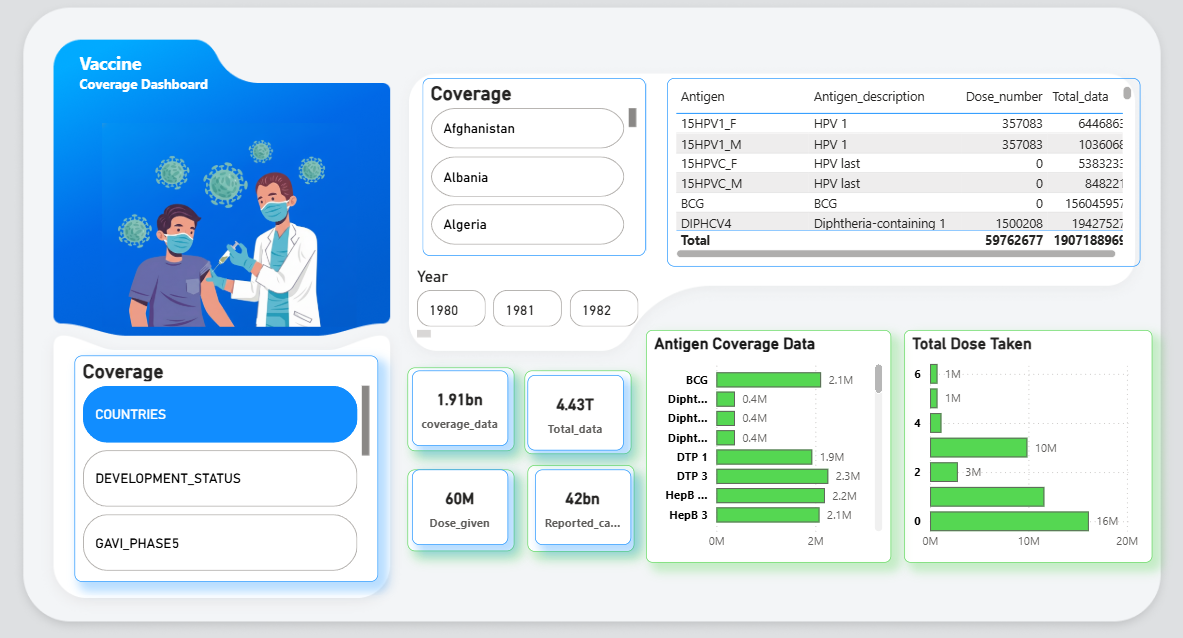

What the dashboard file says about the page in this screenshot:
{"tool":"powerbi","page":{"name":"Vaccine Coverage","canvas":[1280,720],"ordinal":1},"visuals":[{"type":"shape","box":[443.3,520,113.3,86.7],"z":0},{"type":"shape","box":[571.7,515,113.3,91.7],"z":1000},{"type":"shape","box":[443.3,411.7,113.3,88.3],"z":2000},{"type":"shape","box":[568.3,415,113.3,88.3],"z":3000},{"type":"image","box":[113.8,137.5,280,247.5],"z":4000},{"type":"advancedSlicerVisual","title":"Coverage","fields":{"Values":["vaccine_db vaccine_combined_info.coverage_group"]},"box":[90,400,322,240],"z":5000},{"type":"card","fields":{"Values":["Sum(vaccine_db vaccine_combined_info.coverage_coverage)"]},"box":[448.3,415,101.7,80],"z":6000},{"type":"card","fields":{"Values":["Sum(vaccine_db vaccine_combined_info.coverage_doses)"]},"box":[571.7,420,101.7,80],"z":7000},{"type":"textbox","box":[90.7,71.6,222.7,66.8],"z":8000},{"type":"advancedSlicerVisual","title":"Coverage","fields":{"Values":["vaccine_db vaccine_combined_info.coverage_name"]},"box":[460,105,236.7,188.3],"z":9000},{"type":"card","fields":{"Values":["Sum(vaccine_db vaccine_combined_info.coverage_dose_number)"]},"box":[448.3,520,101.7,80],"z":10000},{"type":"card","fields":{"Values":["Sum(vaccine_db vaccine_combined_info.reported_cases)"]},"box":[578.3,520,101.7,80],"z":11000},{"type":"clusteredBarChart","title":"Total Dose Taken","fields":{"Y":["CountNonNull(vaccine_db vaccine_combined_info.coverage_antigen)"],"Category":["vaccine_db vaccine_combined_info.coverage_dose_number"]},"box":[970,371.7,263.3,246.7],"z":12000},{"type":"tableEx","fields":{"Values":["vaccine_db vaccine_combined_info.coverage_antigen","vaccine_db vaccine_combined_info.coverage_antigen_description","Sum(vaccine_db vaccine_combined_info.coverage_dose_number)","Sum(vaccine_db vaccine_combined_info.coverage_coverage)"]},"box":[718.3,105,501.7,200],"z":13000},{"type":"advancedSlicerVisual","fields":{"Values":["vaccine_db vaccine_combined_info.coverage_year"]},"box":[448.3,305,245,81.7],"z":14000},{"type":"clusteredBarChart","title":"Antigen Coverage Data","fields":{"Category":["vaccine_db vaccine_combined_info.coverage_antigen_description"],"Y":["CountNonNull(vaccine_db vaccine_combined_info.coverage_antigen)"]},"box":[696.7,371.7,260,246.7],"z":15000}]}

Visuals, with their boxes on the page's 1280x720 design canvas (x1, y1, x2, y2). These are canvas units, not pixel positions in the 1183x638 screenshot, which may show the page scaled, cropped or inside an application window:
shape: <region>443, 520, 557, 607</region>
shape: <region>572, 515, 685, 607</region>
shape: <region>443, 412, 557, 500</region>
shape: <region>568, 415, 682, 503</region>
image: <region>114, 138, 394, 385</region>
"Coverage" advancedSlicerVisual: <region>90, 400, 412, 640</region>
card - Sum(vaccine_db vaccine_combined_info.coverage_coverage): <region>448, 415, 550, 495</region>
card - Sum(vaccine_db vaccine_combined_info.coverage_doses): <region>572, 420, 673, 500</region>
textbox: <region>91, 72, 313, 138</region>
"Coverage" advancedSlicerVisual: <region>460, 105, 697, 293</region>
card - Sum(vaccine_db vaccine_combined_info.coverage_dose_number): <region>448, 520, 550, 600</region>
card - Sum(vaccine_db vaccine_combined_info.reported_cases): <region>578, 520, 680, 600</region>
"Total Dose Taken" clusteredBarChart: <region>970, 372, 1233, 618</region>
tableEx - vaccine_db vaccine_combined_info.coverage_antigen x vaccine_db vaccine_combined_info.coverage_antigen_description: <region>718, 105, 1220, 305</region>
advancedSlicerVisual - vaccine_db vaccine_combined_info.coverage_year: <region>448, 305, 693, 387</region>
"Antigen Coverage Data" clusteredBarChart: <region>697, 372, 957, 618</region>
